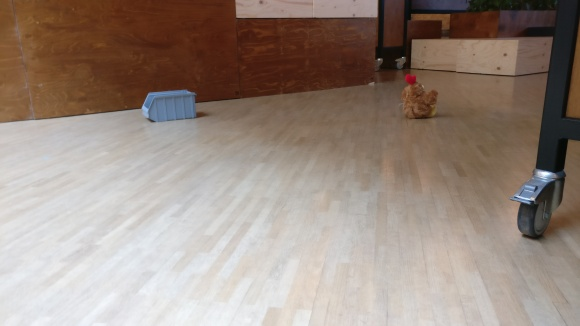chicken: (399, 73, 439, 119)
tray: (140, 88, 197, 123)
